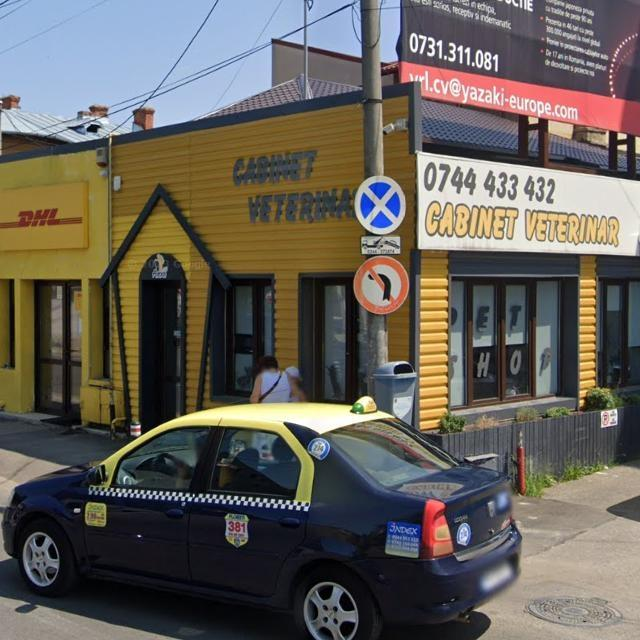forb_waiting: (354, 176, 407, 234)
